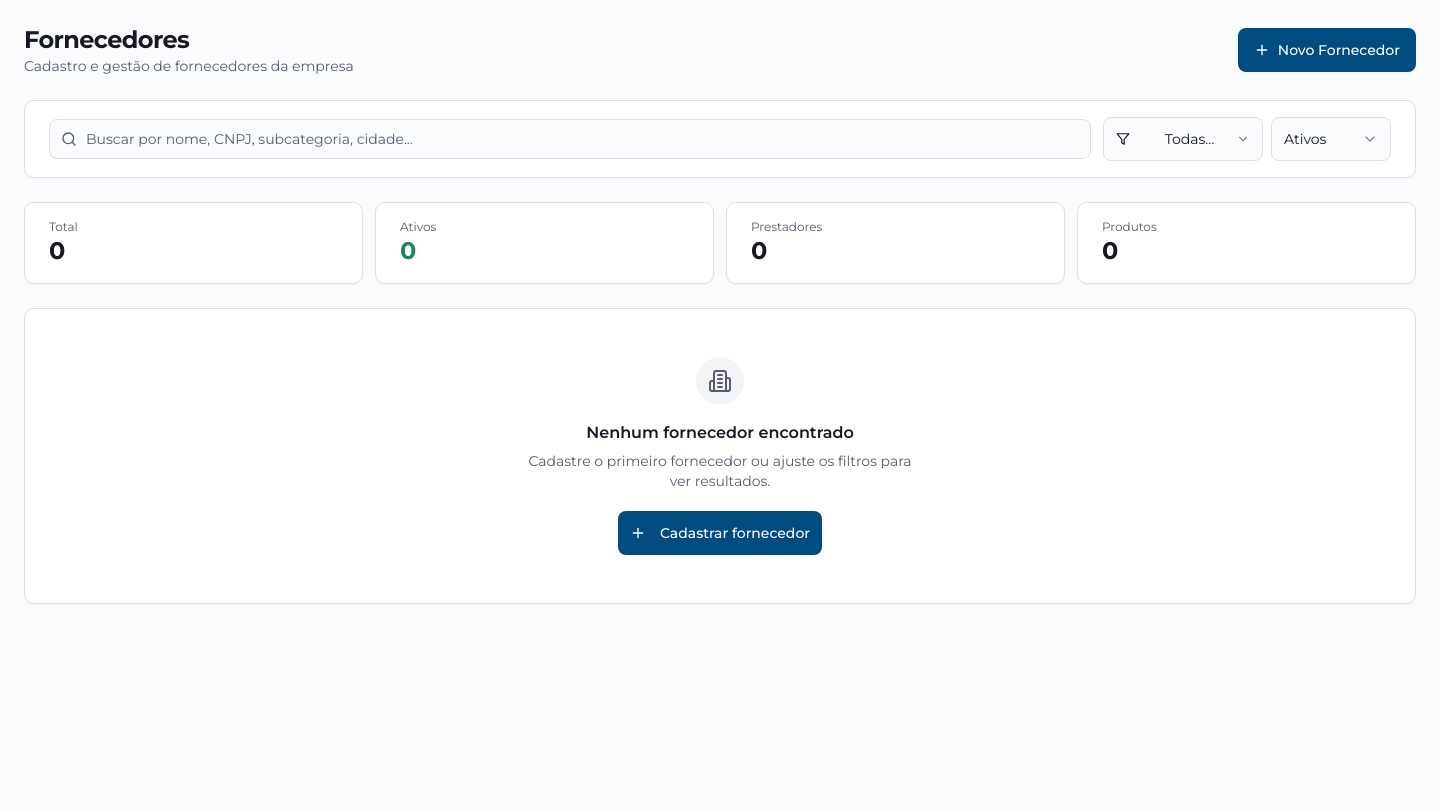
Test: Supplier Modal — Create › shows only Produtos subcategories when Produtos is selected
This screenshot has width=1440, height=810.
Click the button "Novo Fornecedor" at (1327, 50), box [1238, 28, 1416, 72]
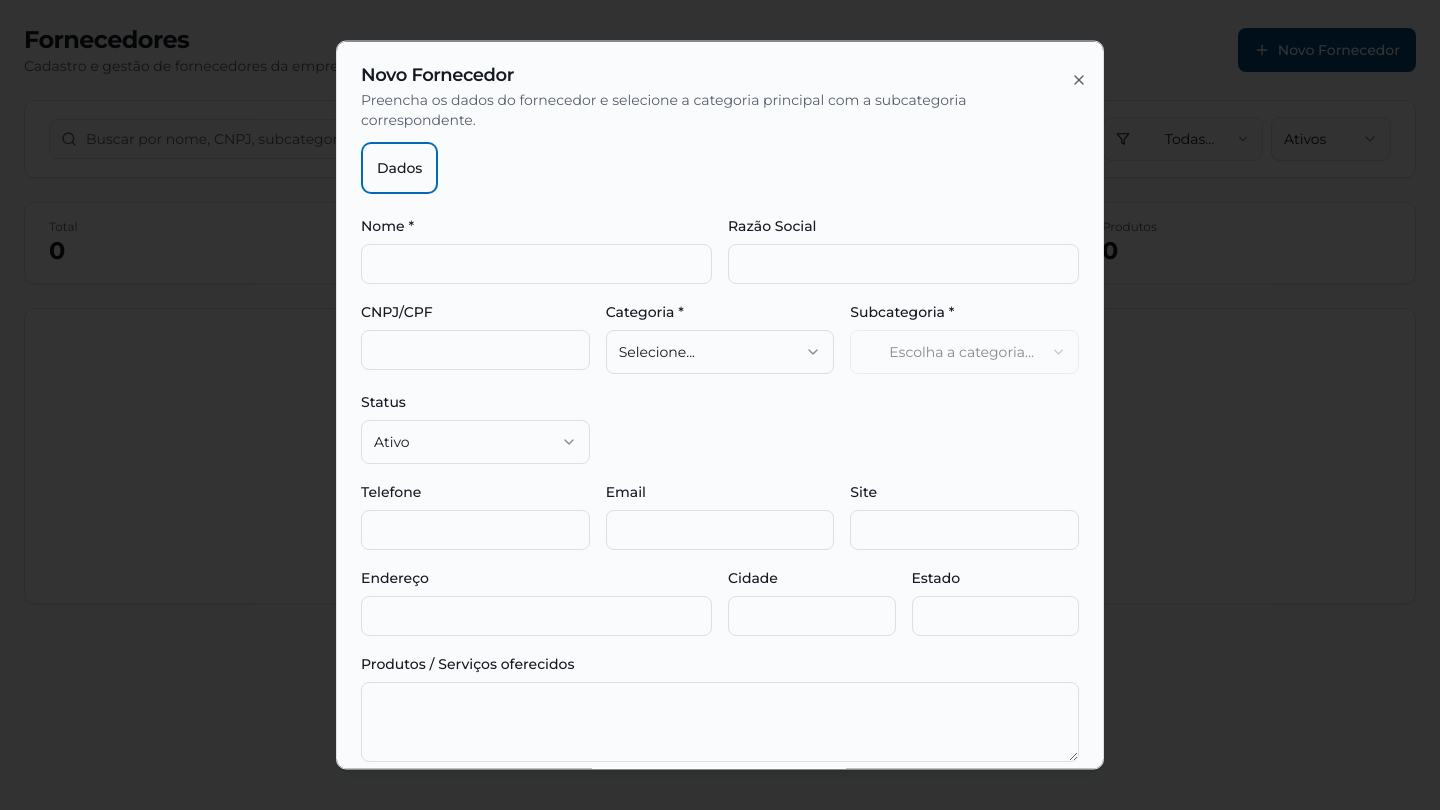
Click the dropdown labelled "Selecione..." at (720, 352), box [606, 330, 834, 374]
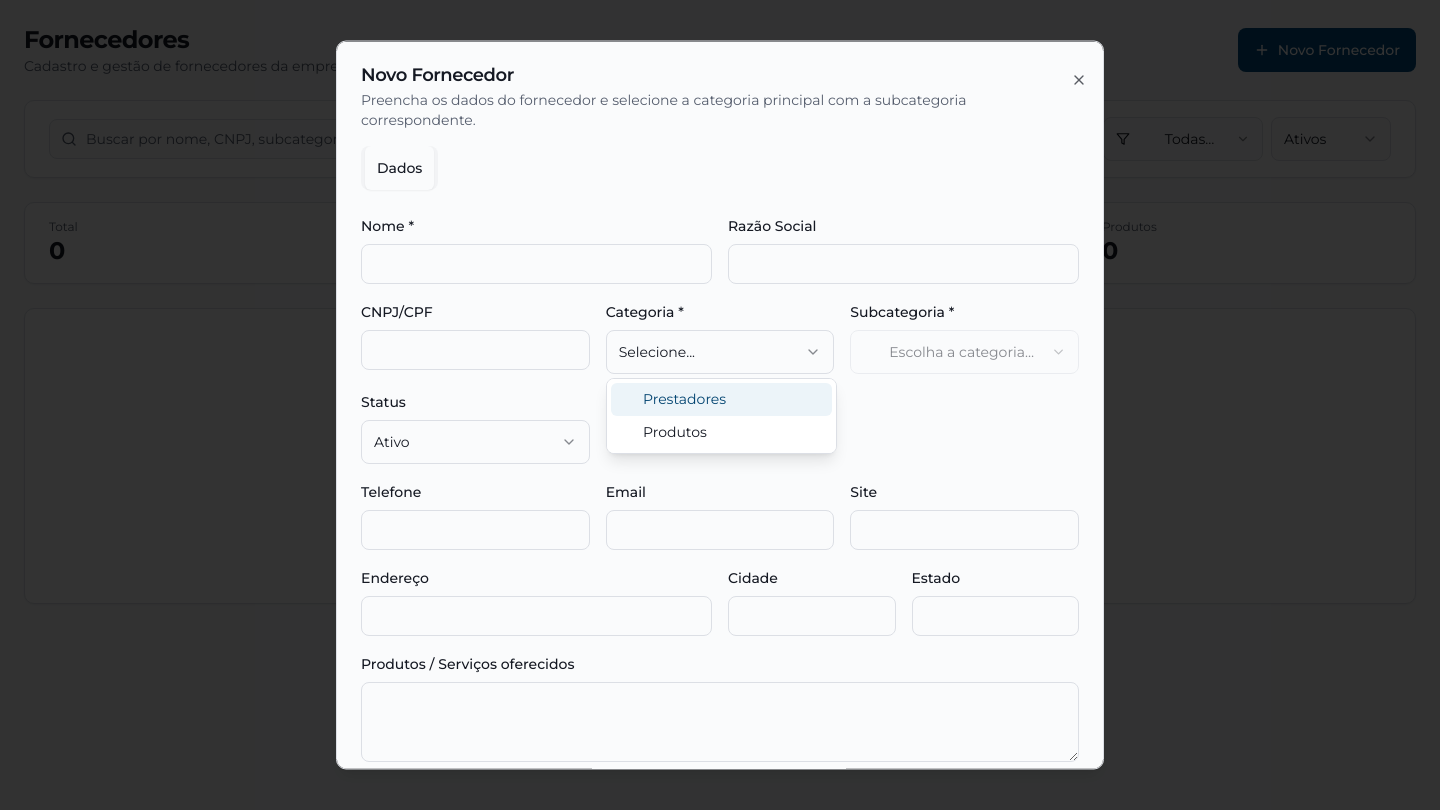
Click the option "Produtos" at (675, 432), box [643, 423, 707, 441]
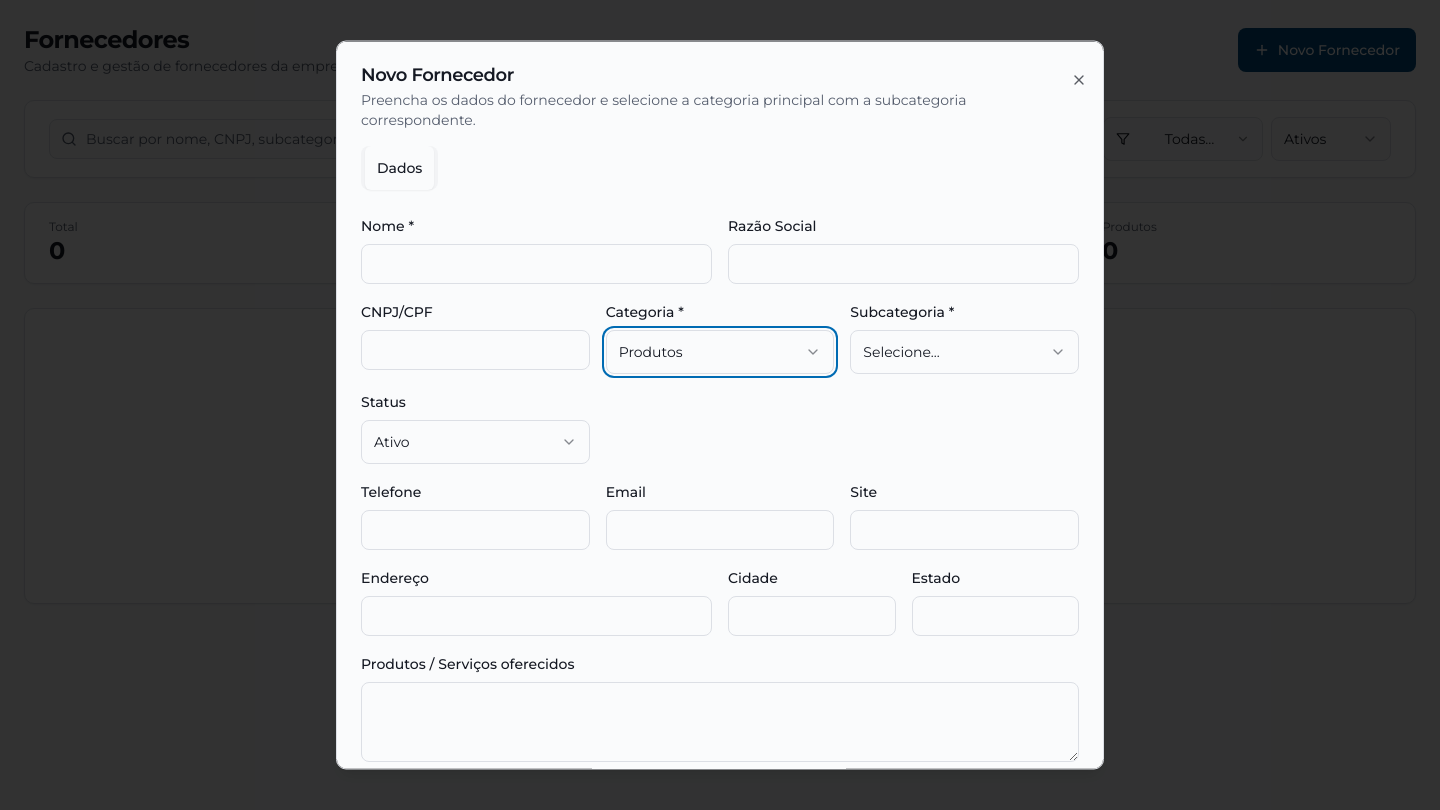
Click the dropdown labelled "Selecione..." at (965, 352), box [850, 330, 1079, 374]
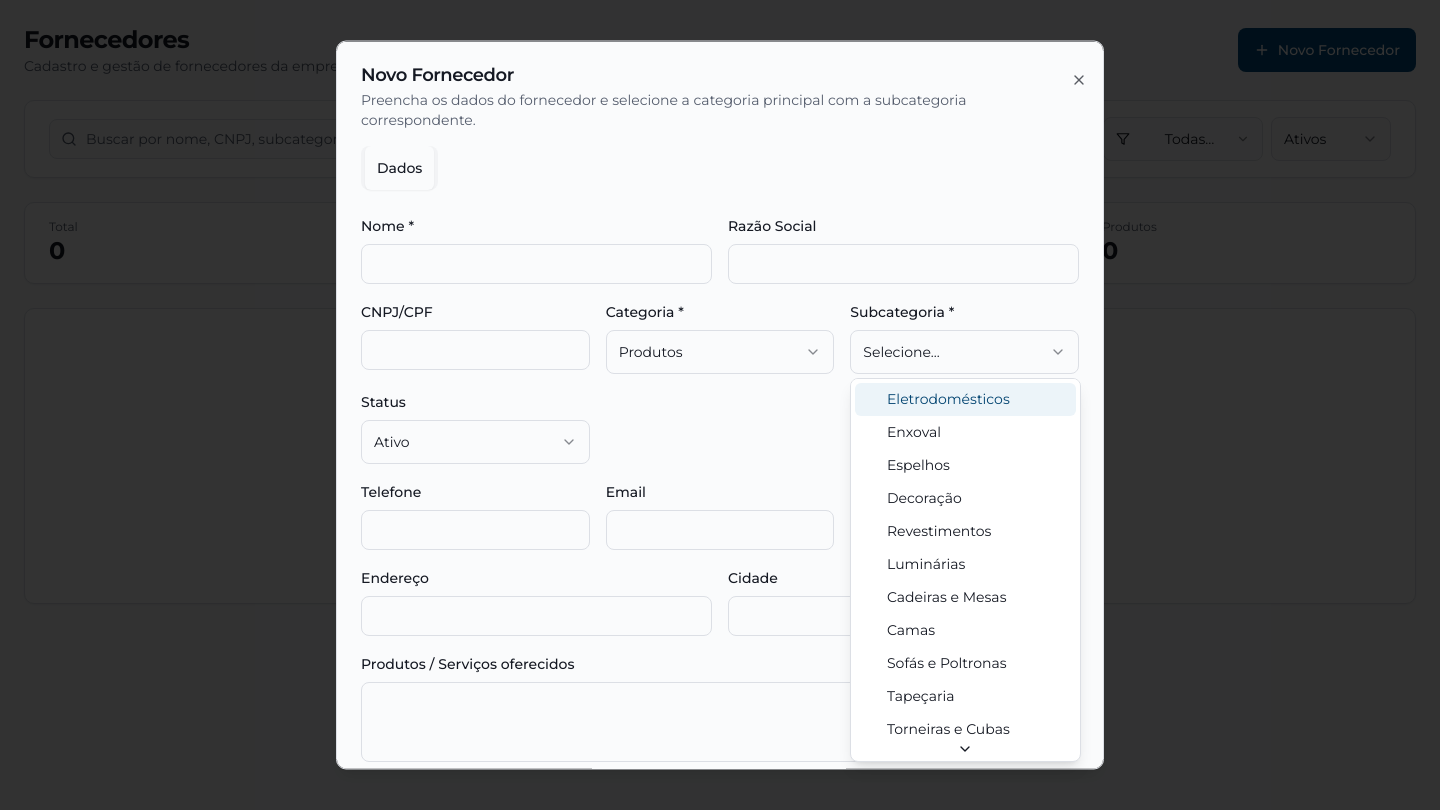
Expected: the option "Eletrodomésticos" is shown, [855, 383, 1076, 416]
Expected: the option "Enxoval" is shown, [887, 423, 941, 441]
Expected: the option "Espelhos" is shown, [887, 456, 950, 474]
